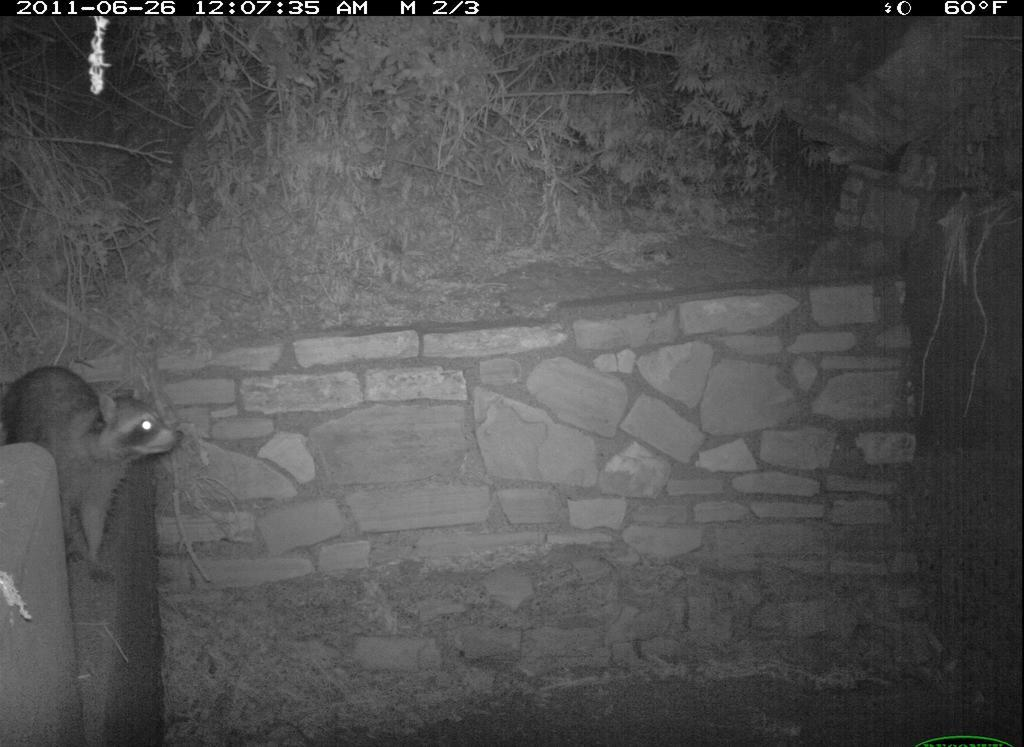raccoon: (1, 359, 195, 590)
